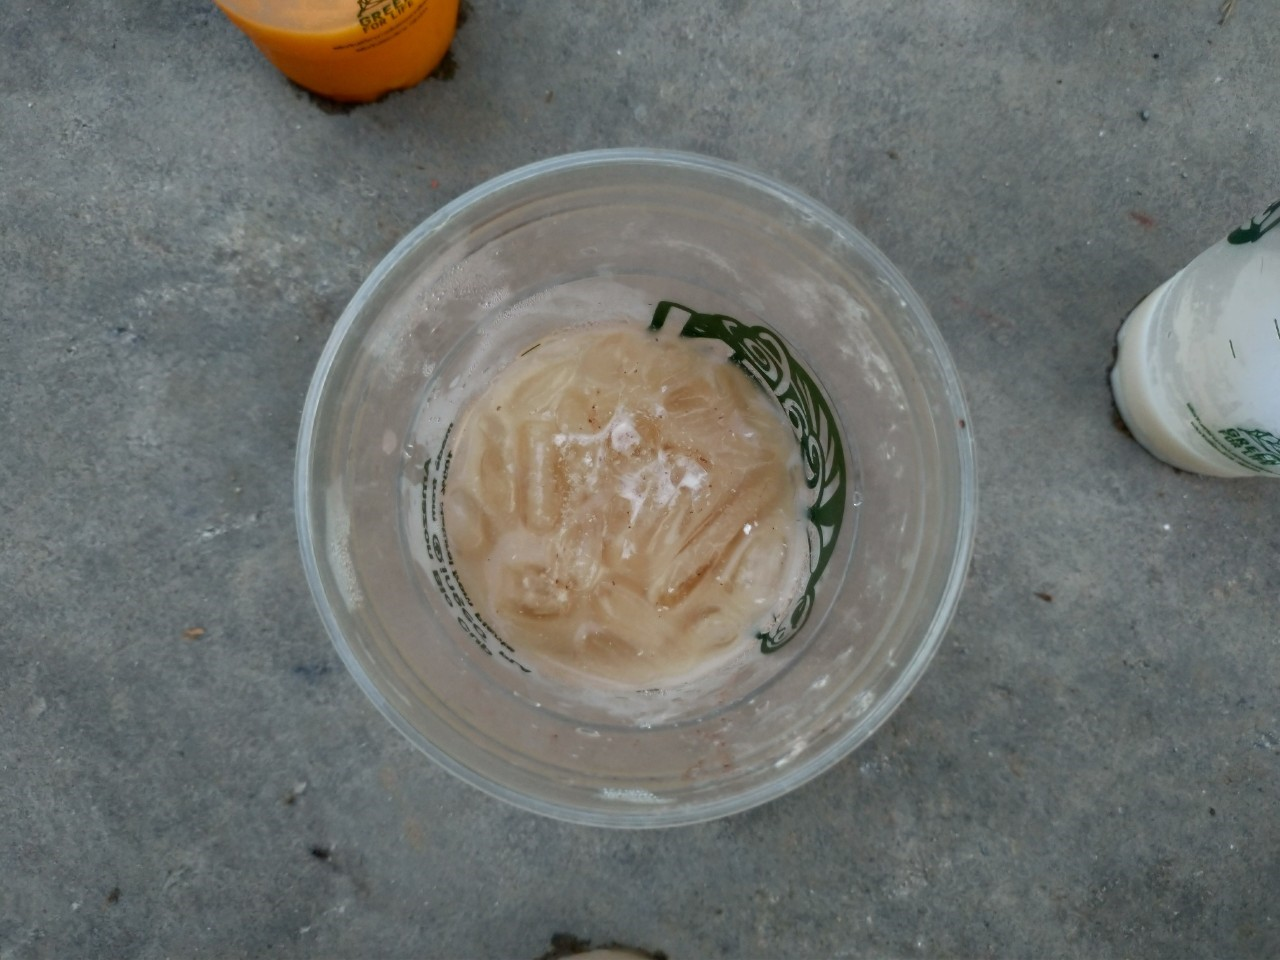PlasticCup: (287, 143, 980, 836), (1105, 199, 1280, 484), (220, 1, 480, 115)
